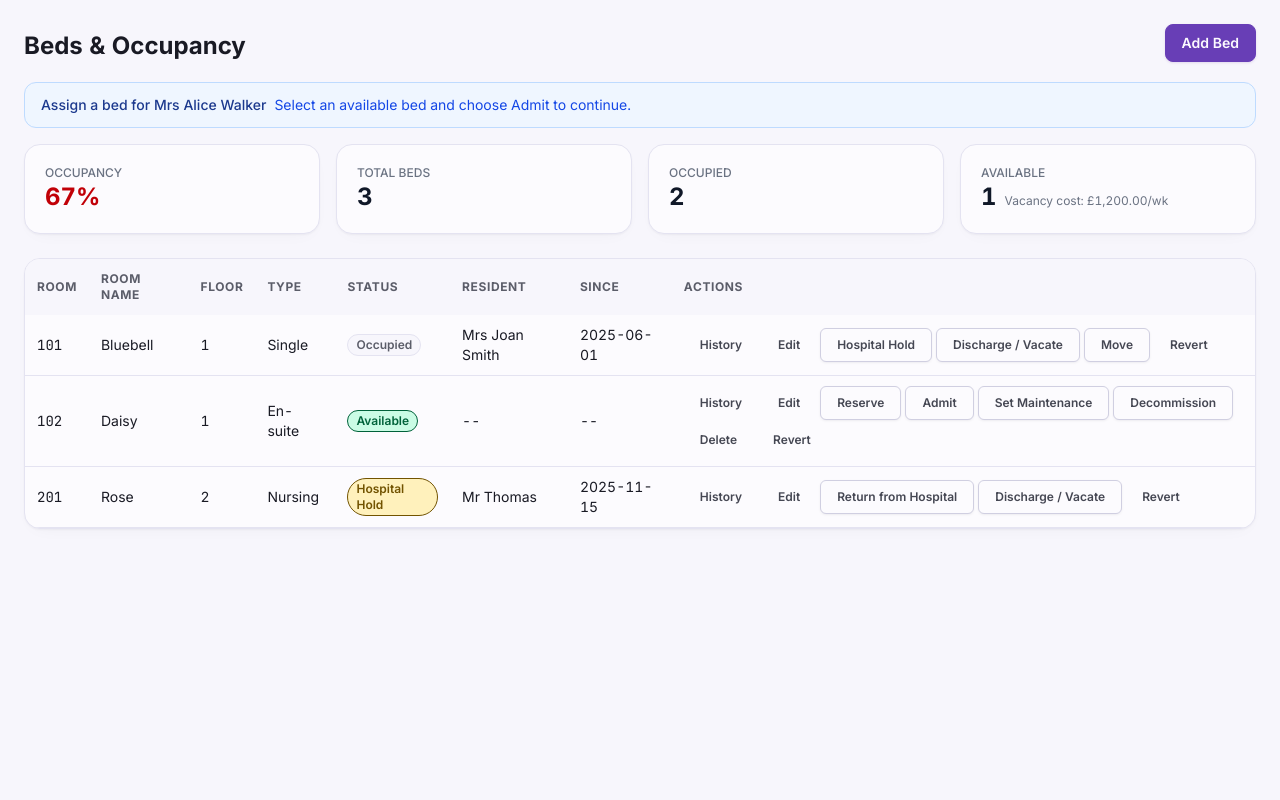
Test case: BedManager › keeps resident handoff context from the Residents page
The image size is (1280, 800).
Expected: the text "Assign a bed for Mrs Alice Walker" is shown, [41,96,266,113]
Click the button "Admit" at {"x": 940, "y": 403}, box [906,386,974,420]
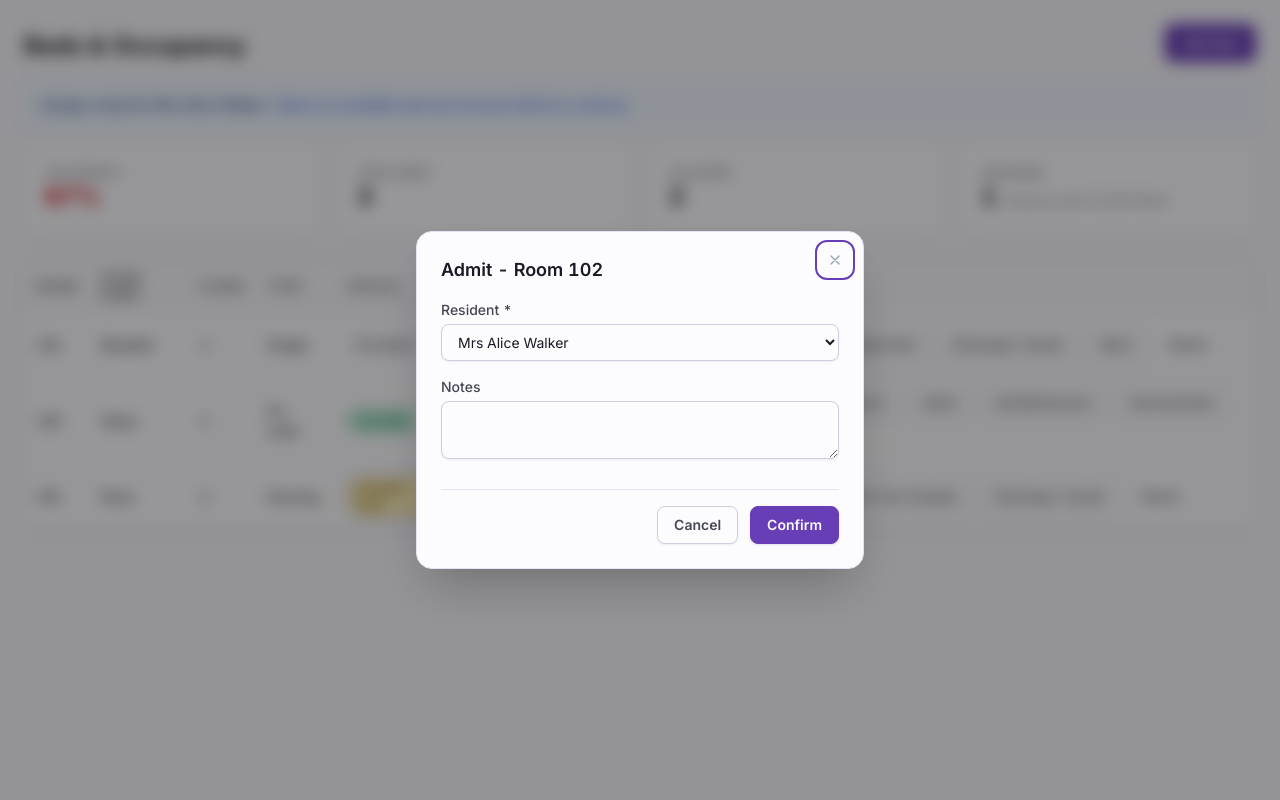
Expected: the dropdown shows "Mrs Alice Walker", [441,324,839,361]
